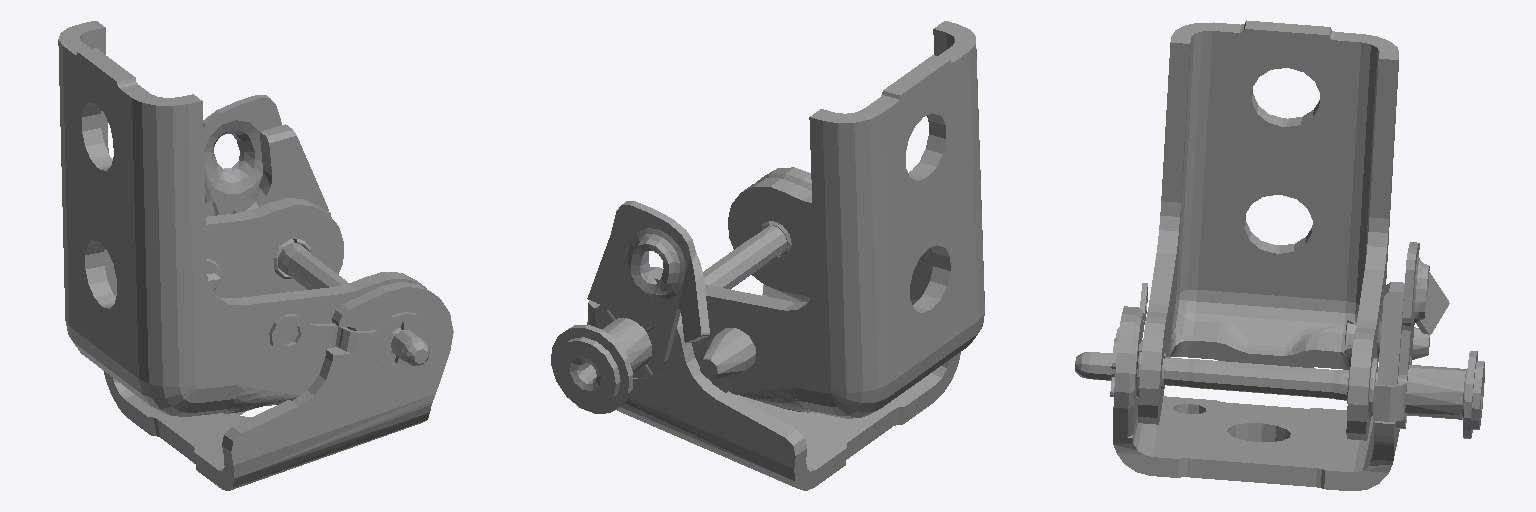
The robot description file, URDF, robot "doorHinge_sup":
<robot
  name="doorHinge_sup">
  <link name="doorHinge">
    <inertial>
      <origin xyz="0.0 0.0 0.0" rpy="0 0 0"/>
      <mass value="1.0"/>
      <inertia ixx="1" ixy="0.0" ixz="0.0" iyy="1" iyz="0.0" izz="1" />
    </inertial>

    <visual>
      <geometry>
        <mesh filename="../meshes/PSA/doorHinge_sup.dae" scale="1 1 1" />
      </geometry>
     </visual>

    <collision>
      <geometry>
        <mesh filename="../meshes/PSA/doorHinge_sup.dae" scale="1 1 1" />
      </geometry>
    </collision>

  </link>
</robot>

--- What the picture shows (computed from the rendered views, not written in the file) ---
The picture shows the robot from 3 angles, left to right: view 1: azimuth 30°, elevation 25°; view 2: azimuth 150°, elevation 25°; view 3: azimuth 270°, elevation 25°; orthographic projection.
Robot: doorHinge_sup — 1 links, 0 joints (none); root link doorHinge; default pose: every joint at zero.
Links seen in each view (by area): view 1: doorHinge; view 2: doorHinge; view 3: doorHinge.
Boxes of the visible links, x1=… form: doorHinge: x1=58, y1=21, x2=453, y2=490; doorHinge: x1=551, y1=21, x2=984, y2=490; doorHinge: x1=1075, y1=20, x2=1484, y2=490.
Bounding box of the posed robot: 0.0637 × 0.0824 × 0.0835 m (x, y, z).
1 mesh visuals loaded from 1 distinct referenced files (1 Collada DAE).